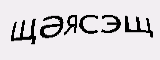С: (79, 14, 99, 35)
Щ: (8, 16, 37, 45), (122, 15, 155, 38)
Э: (100, 14, 121, 34)
Я: (62, 14, 77, 35)
Ә: (38, 14, 63, 39)
